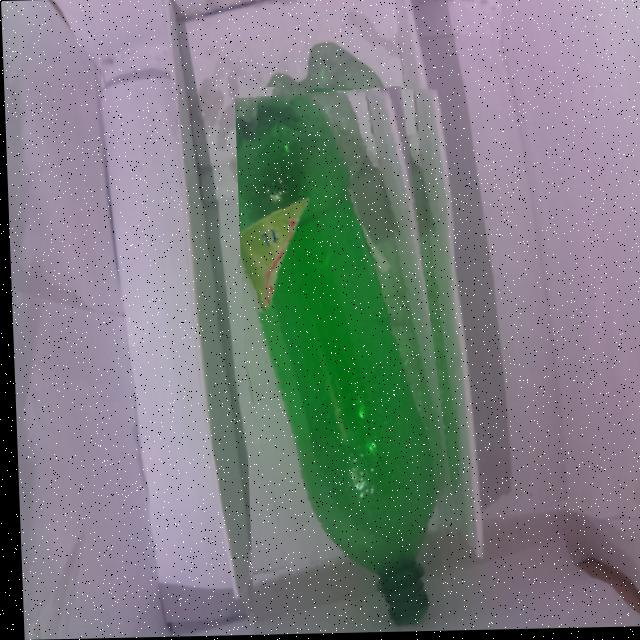litter: (233, 86, 464, 636)
